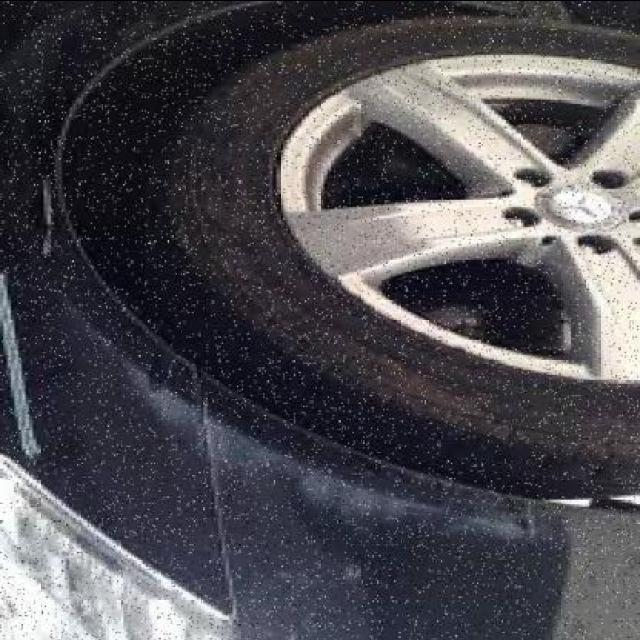front-bumper-dent: (72, 323, 580, 640)
